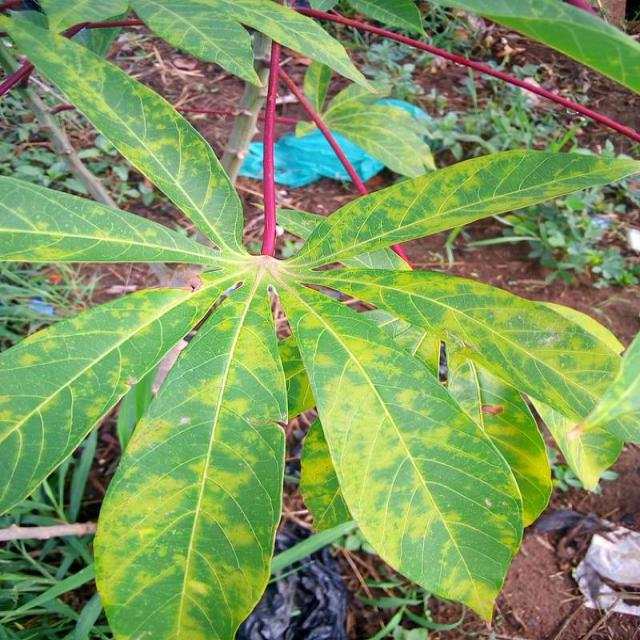cassava leaf: (0, 1, 638, 637), (278, 278, 526, 624), (92, 274, 289, 638)
